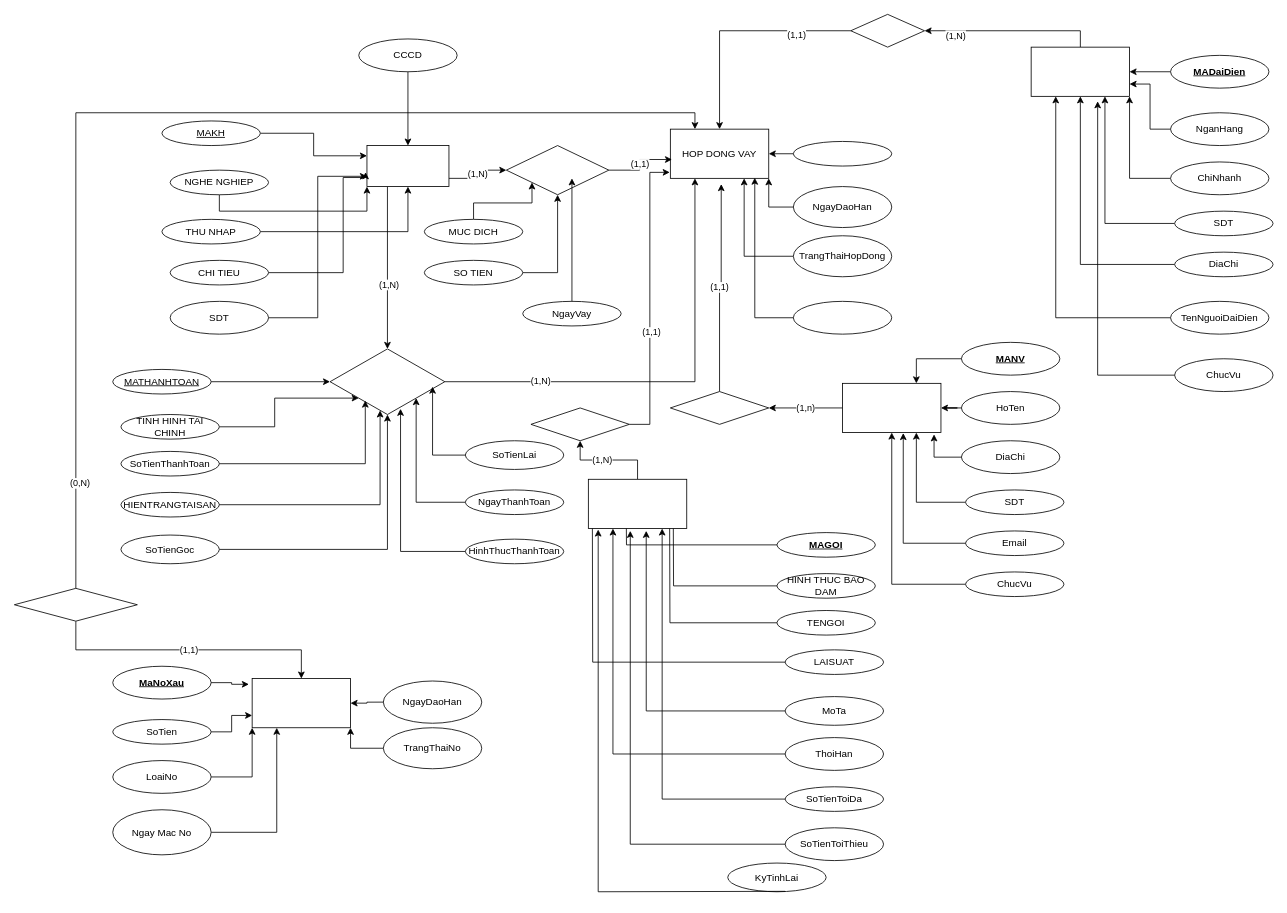
The diagram is 1287 pixels wide and 913 high, and some of its shapes have lost their labels. The shapes that lost their labels are listed below. From the top down, each one's box as (x1, y1, x2, y2) in pixels, then its label:
(850, 14, 925, 47): CHOVAY
(1030, 46, 1130, 96): DAIDIENCHOVAY
(366, 145, 449, 187): KHACH HANG
(506, 145, 609, 195): VAY
(793, 141, 892, 166): MAHD
(793, 301, 892, 334): HinhThucVay
(329, 348, 445, 415): THANH TOAN
(530, 407, 629, 441): Thuộc
(670, 391, 769, 424): TU VAN
(842, 383, 941, 433): NHANVIEN
(588, 478, 687, 528): GoiVay
(14, 588, 137, 621): Thuoc
(251, 678, 351, 728): NoXau
